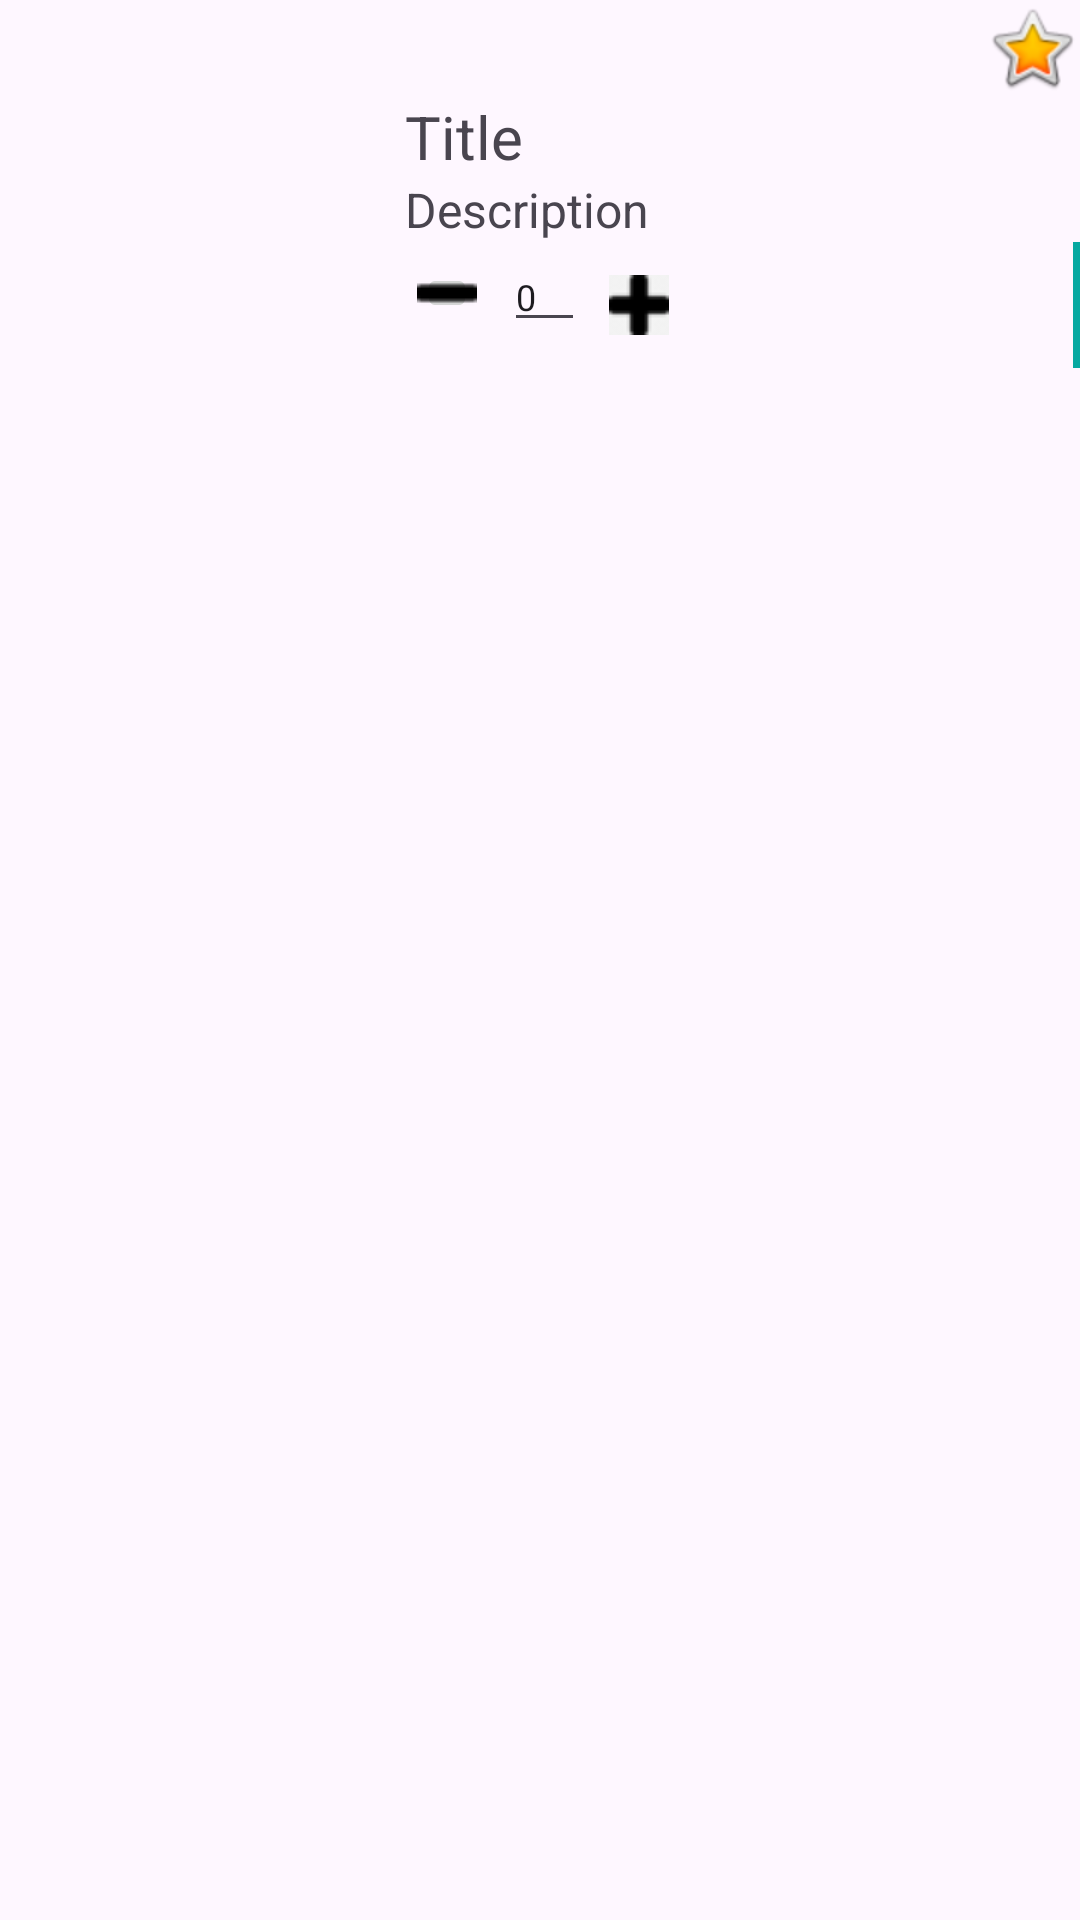

Icons on this 1080×1920 Android screen, each with the point to tap as (x,y):
minus: (447,293)
plus: (639,305)
star on: (1033,49)
